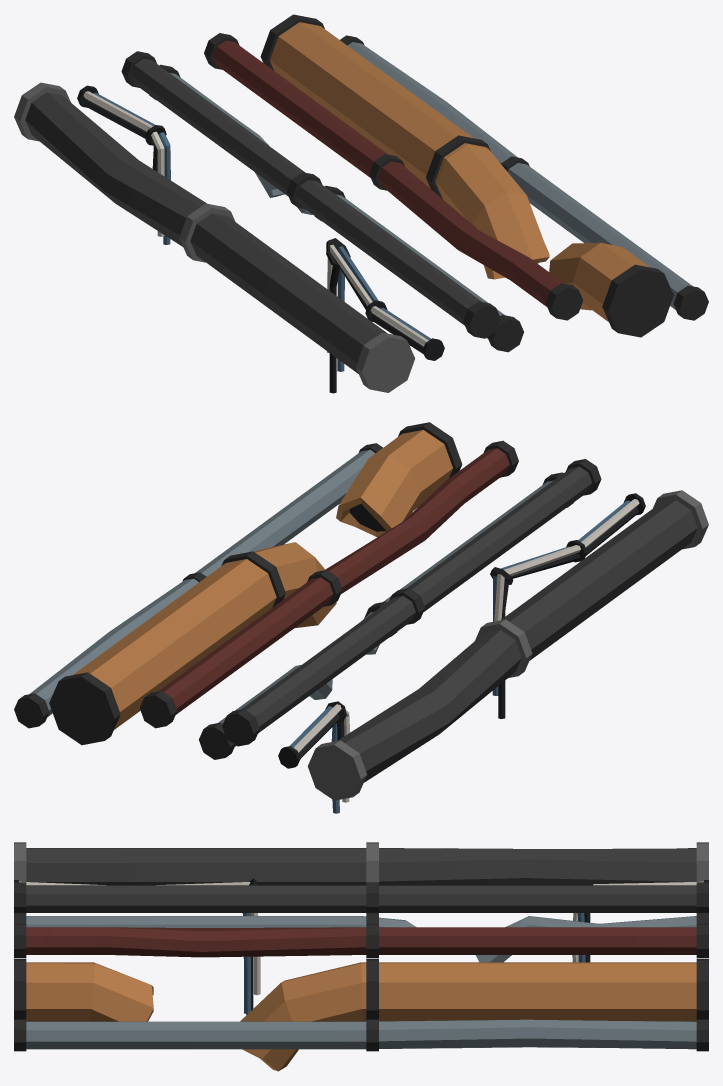
File: SM_Bld_Ceiling_Pipes_Straight_Broken_01.fbx
The picture shows the model from 3 angles, top to bottom: view 1: azimuth 30°, elevation 25°; view 2: azimuth 150°, elevation 25°; view 3: azimuth 270°, elevation 25°; orthographic projection.
Parts seen in each view (by area): view 1: SM_Bld_Ceiling_Pipes_Straight_Broken_01; view 2: SM_Bld_Ceiling_Pipes_Straight_Broken_01; view 3: SM_Bld_Ceiling_Pipes_Straight_Broken_01.
Boxes of the visible parts, <box> form: SM_Bld_Ceiling_Pipes_Straight_Broken_01: <box>14,14,708,393</box>; SM_Bld_Ceiling_Pipes_Straight_Broken_01: <box>14,422,708,813</box>; SM_Bld_Ceiling_Pipes_Straight_Broken_01: <box>14,842,708,1071</box>.
Bounding box in the file's own units: 288 × 130 × 500.
1 material, 1 textured.
